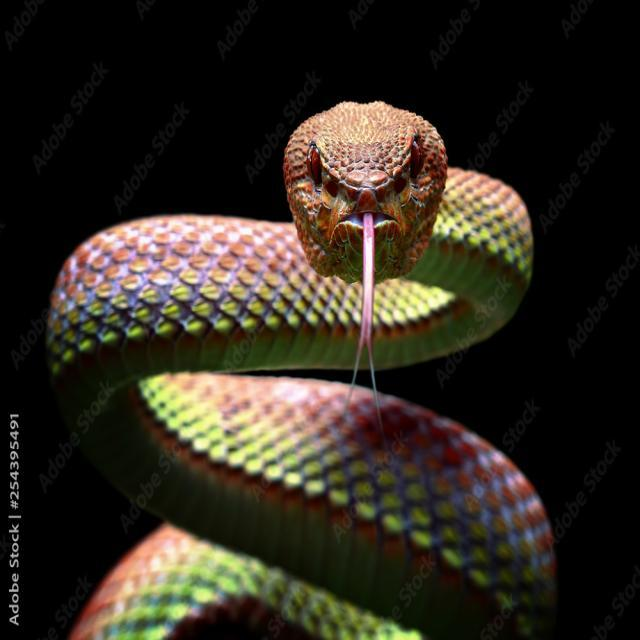Snake: (32, 65, 579, 640)
